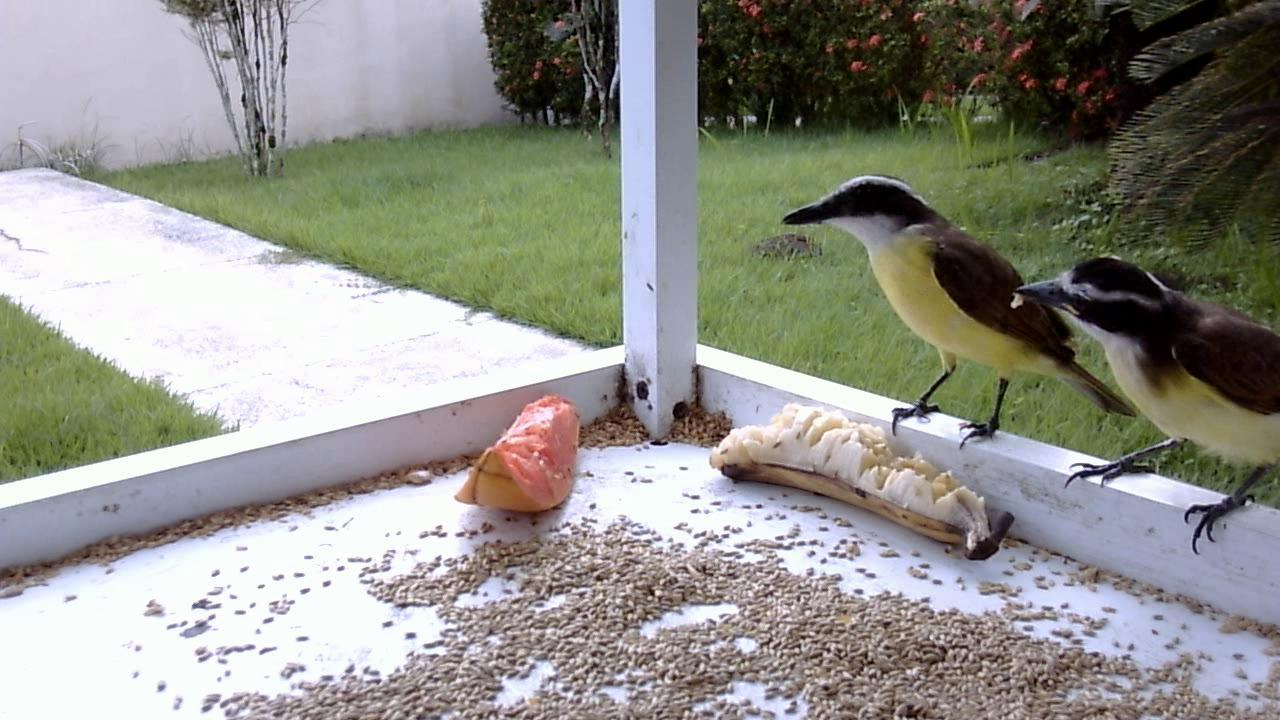bem_te_vi: (760, 160, 1150, 502), (1022, 214, 1270, 574)
